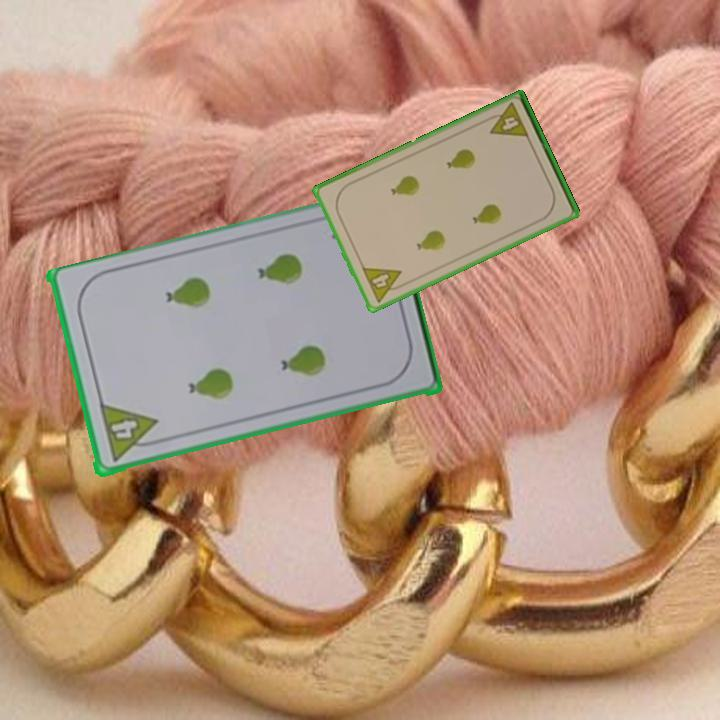4p: (100, 401, 157, 446), (358, 263, 410, 305), (482, 99, 532, 141)
